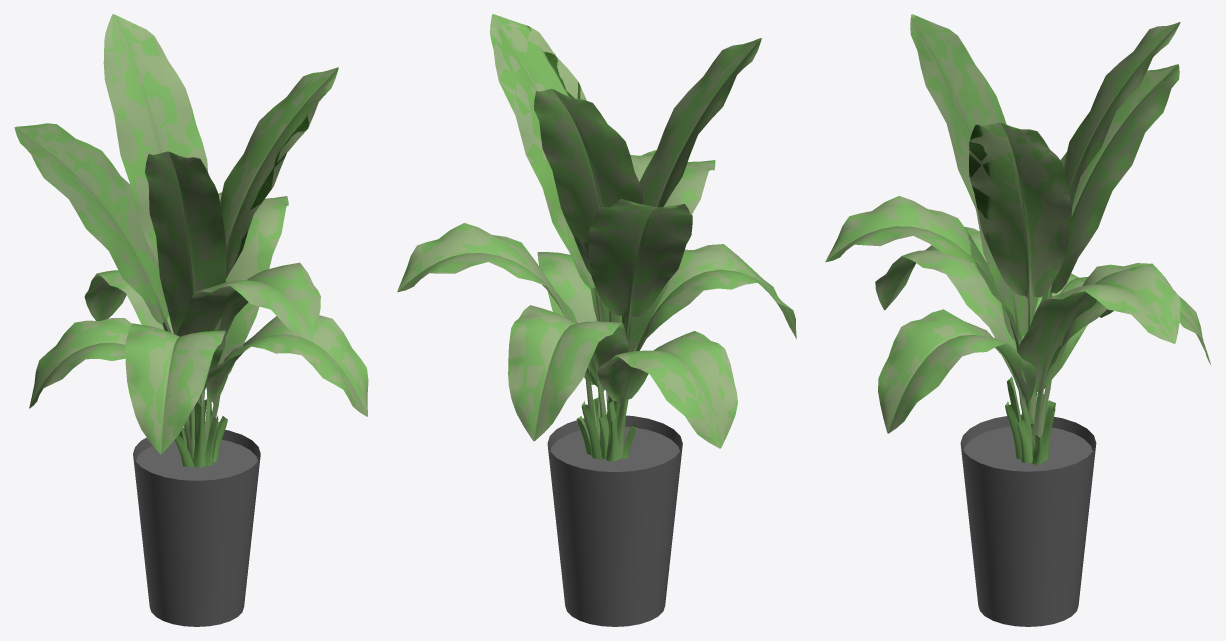
File: planta-en-maceta-4.glb
3 views of the same model, side by side, from view 1: azimuth 30°, elevation 25°; view 2: azimuth 150°, elevation 25°; view 3: azimuth 270°, elevation 25° (orthographic). The views are drawn at different scales.
Parts seen in each view (by area): view 1: SketchUp.001, SketchUp; view 2: SketchUp.001, SketchUp; view 3: SketchUp.001, SketchUp.
Boxes of the visible parts, x1,y1,x2,y2 form: SketchUp.001: (14,14,368,467); SketchUp: (133,427,260,626); SketchUp.001: (397,14,796,461); SketchUp: (547,415,682,626); SketchUp.001: (825,14,1211,464); SketchUp: (960,414,1096,626).
Bounding box in the file's own units: 0.763 × 1.44 × 0.8705.
3 materials, 2 textured.
